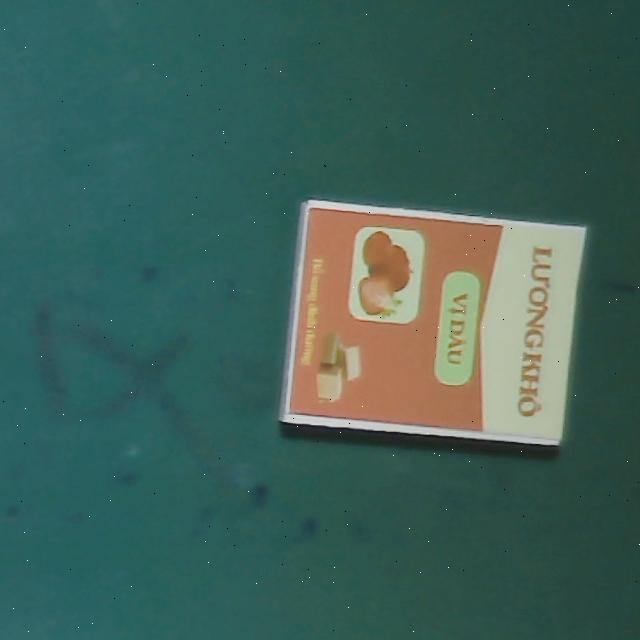dau: (278, 199, 585, 451)
